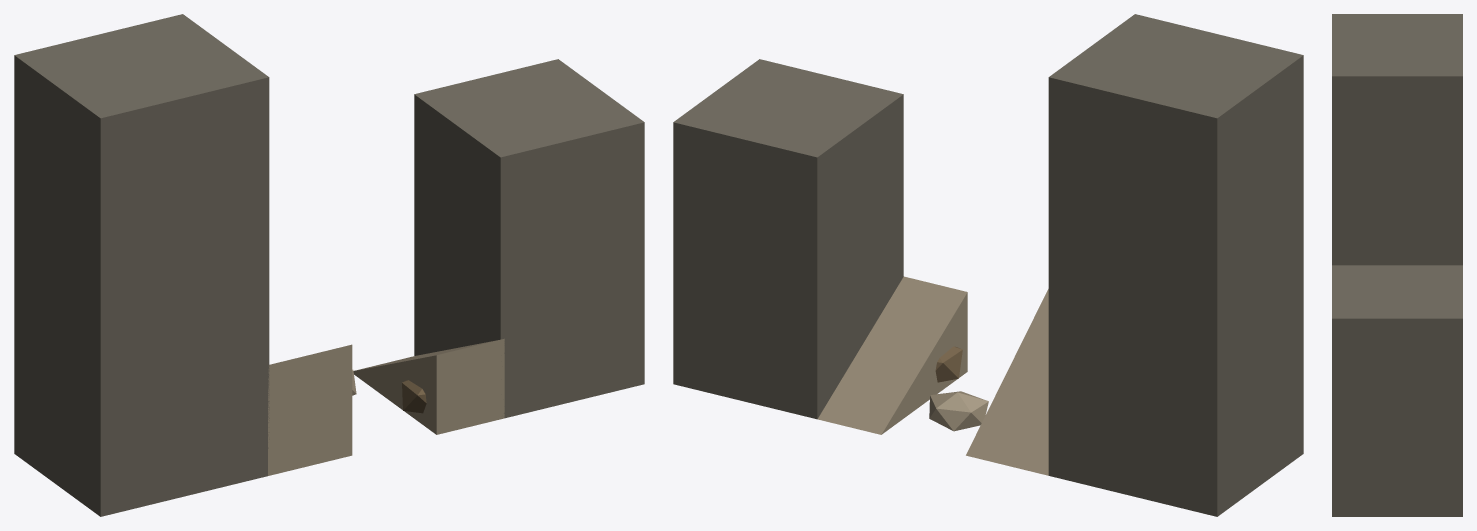
3 renders of one model, left to right at view 1: azimuth 30°, elevation 25°; view 2: azimuth 150°, elevation 25°; view 3: azimuth 270°, elevation 25°, orthographic. The views are drawn at different scales.
Parts seen in each view (by area): view 1: WK_Stone_A08_RuinWall_Breached4m_LOD2; view 2: WK_Stone_A08_RuinWall_Breached4m_LOD2; view 3: WK_Stone_A08_RuinWall_Breached4m_LOD2.
Part boxes in pixels (x1,y1,x2,y2): WK_Stone_A08_RuinWall_Breached4m_LOD2: (14,14,644,516); WK_Stone_A08_RuinWall_Breached4m_LOD2: (673,14,1303,516); WK_Stone_A08_RuinWall_Breached4m_LOD2: (1332,14,1462,516).
Bounding box in the file's own units: 4 × 2.8 × 1.1.
